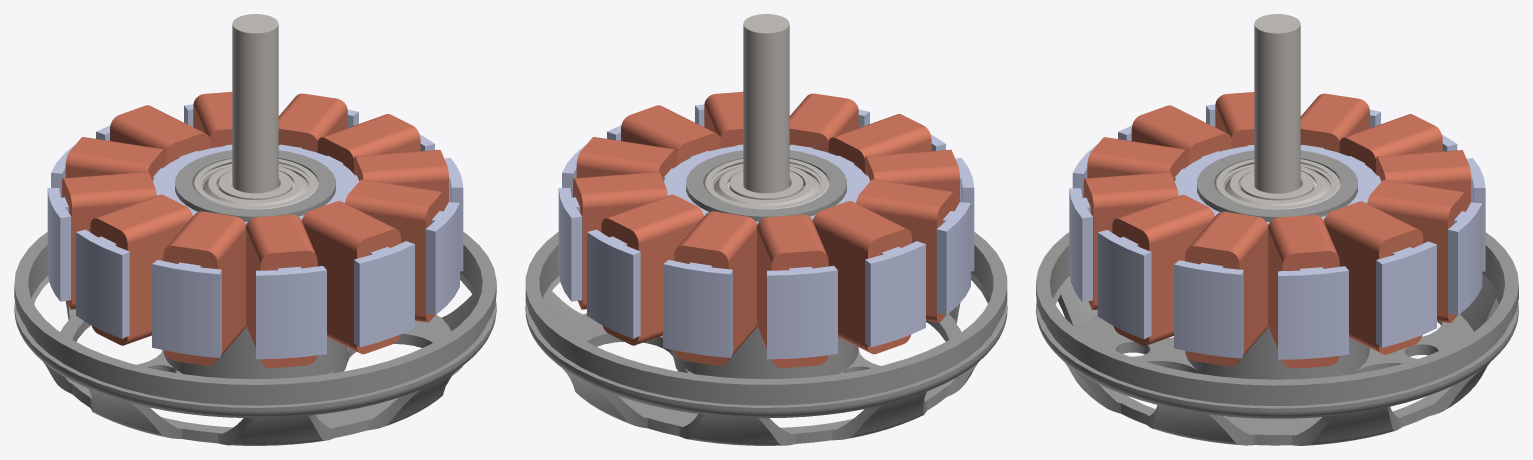
The model's file is motor_3508_base.dae.
The picture shows the model from 3 angles, left to right: view 1: azimuth 30°, elevation 25°; view 2: azimuth 150°, elevation 25°; view 3: azimuth 270°, elevation 25°; orthographic projection.
Parts seen in each view (by area): view 1: Body_1 (×3), _3DGeom-1875, _3DGeom-1874, Body_3, Body_2; view 2: Body_1 (×3), _3DGeom-1875, _3DGeom-1874, Body_3, Body_2; view 3: Body_1 (×3), _3DGeom-1875, _3DGeom-1874, Body_3, Body_2.
Part boxes in pixels (x1,y1,x2,y2): Body_1 (×3): [14, 14, 496, 445]; _3DGeom-1875: [62, 91, 448, 368]; _3DGeom-1874: [47, 104, 463, 359]; Body_3: [202, 166, 308, 205]; Body_2: [192, 159, 318, 209]; Body_1 (×3): [525, 14, 1007, 445]; _3DGeom-1875: [573, 91, 959, 368]; _3DGeom-1874: [558, 104, 974, 359]; Body_3: [713, 166, 819, 205]; Body_2: [703, 159, 829, 209]; Body_1 (×3): [1036, 14, 1518, 445]; _3DGeom-1875: [1083, 92, 1471, 368]; _3DGeom-1874: [1069, 104, 1485, 359]; Body_3: [1223, 166, 1331, 206]; Body_2: [1214, 159, 1340, 209].
Size of the model in its own units: 0.0418 by 0.0418 by 0.0335.
